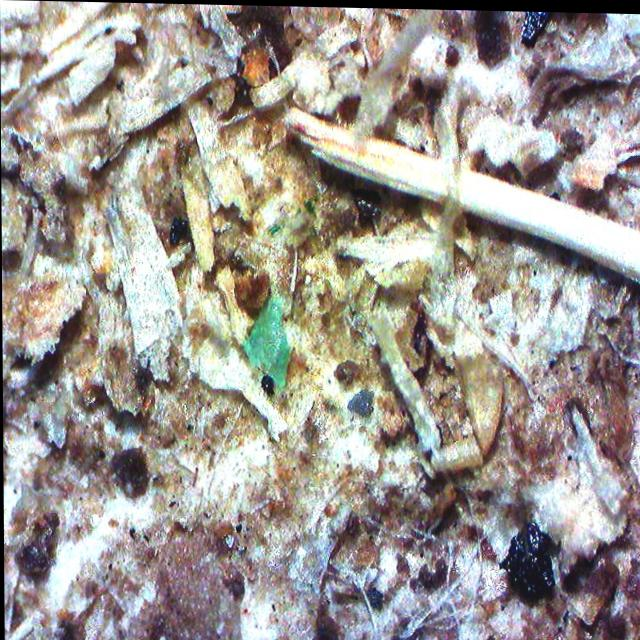microplastic: (231, 290, 327, 387)
